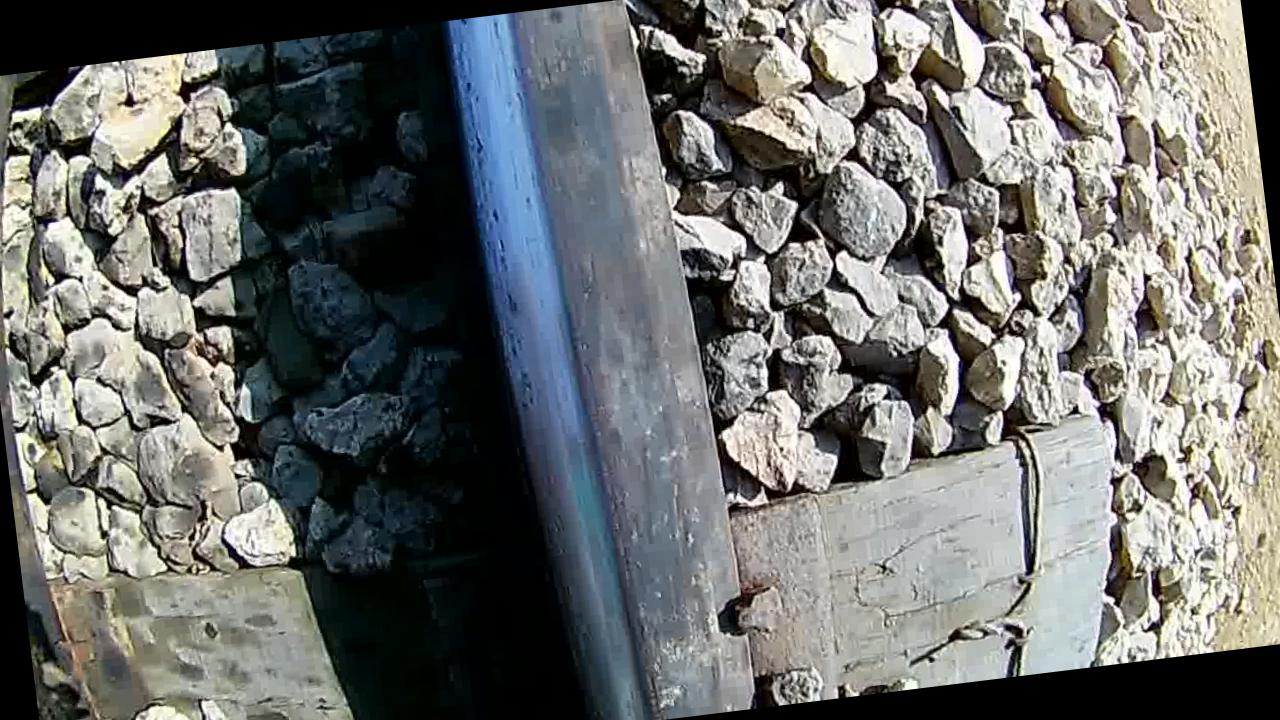crack: (445, 0, 729, 720)
